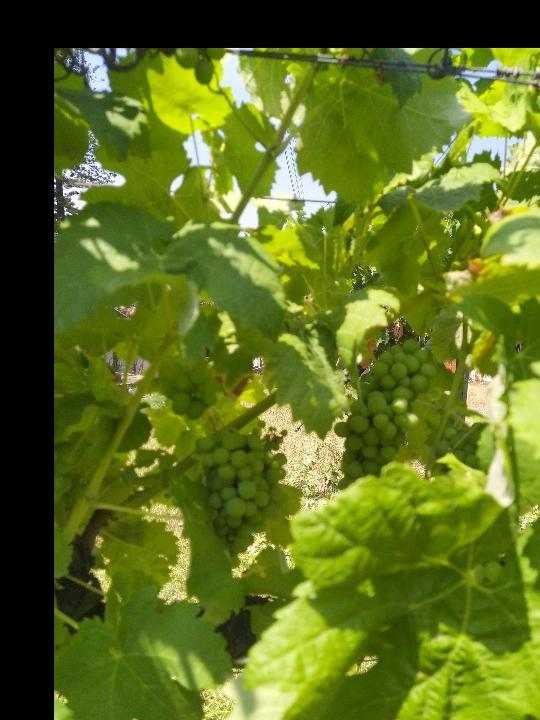grape: (331, 337, 439, 492), (192, 426, 289, 554)
